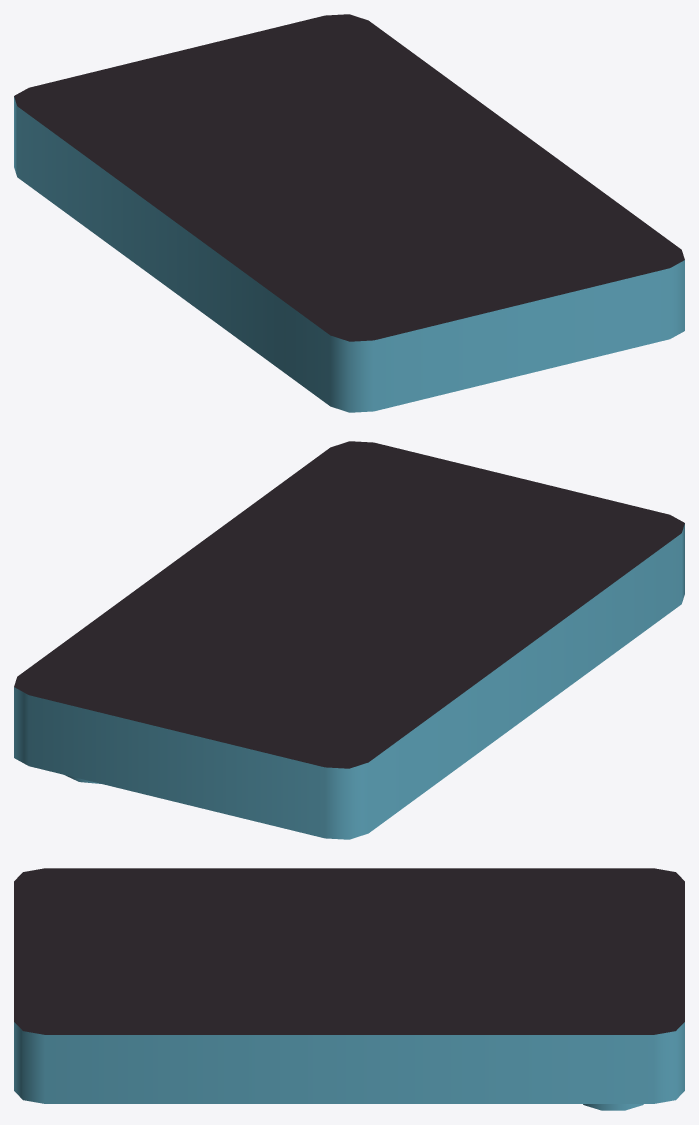
File: iPhone XR 1.fbx
3 views of the same model, one above another, from view 1: azimuth 30°, elevation 25°; view 2: azimuth 150°, elevation 25°; view 3: azimuth 270°, elevation 25° (orthographic). The views are drawn at different scales.
Parts seen in each view (by area): view 1: iPhone XR; view 2: iPhone XR; view 3: iPhone XR.
Part boxes in pixels (box(x1,y1,x2,y2)): iPhone XR: box(14, 14, 684, 412); iPhone XR: box(14, 441, 684, 839); iPhone XR: box(14, 868, 684, 1110).
Size of the model in its own units: 34.34 by 8.59 by 58.42.
